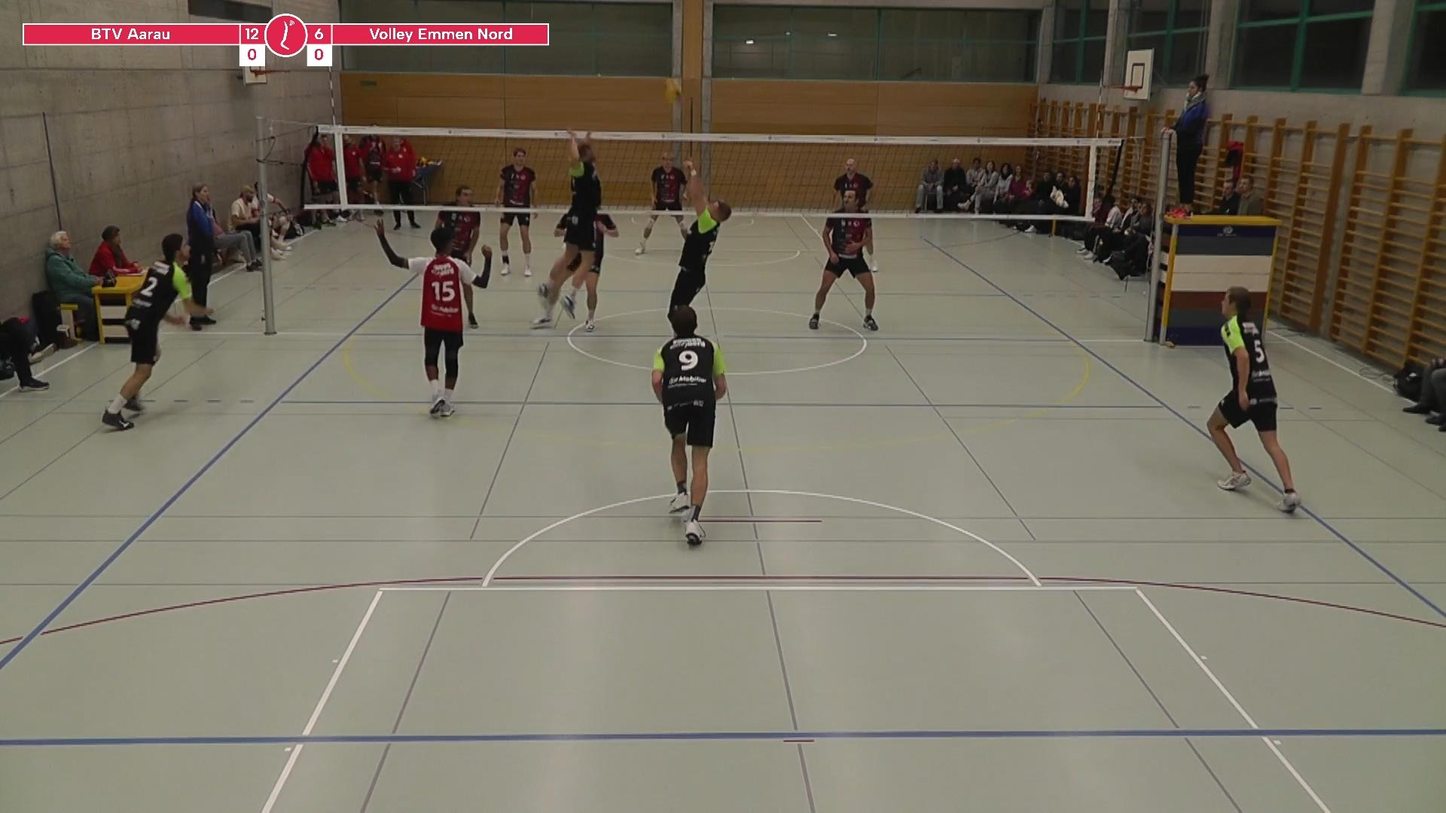alzata: (649, 154, 737, 353)
